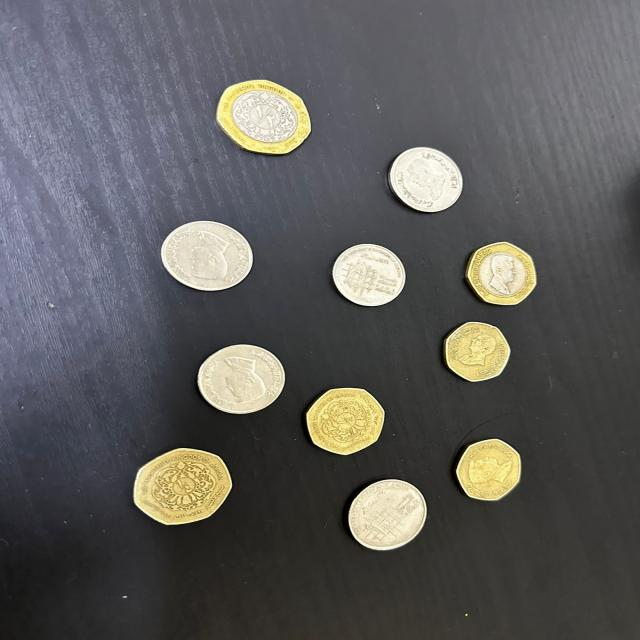10-coins: (348, 477, 429, 550), (388, 147, 465, 213)
25-coins: (130, 447, 233, 525), (306, 387, 386, 456), (442, 320, 513, 383), (457, 436, 524, 502)
5-coins: (160, 220, 255, 292), (196, 344, 287, 415), (332, 242, 407, 307)
50-coins: (214, 78, 314, 156), (464, 241, 539, 306)
